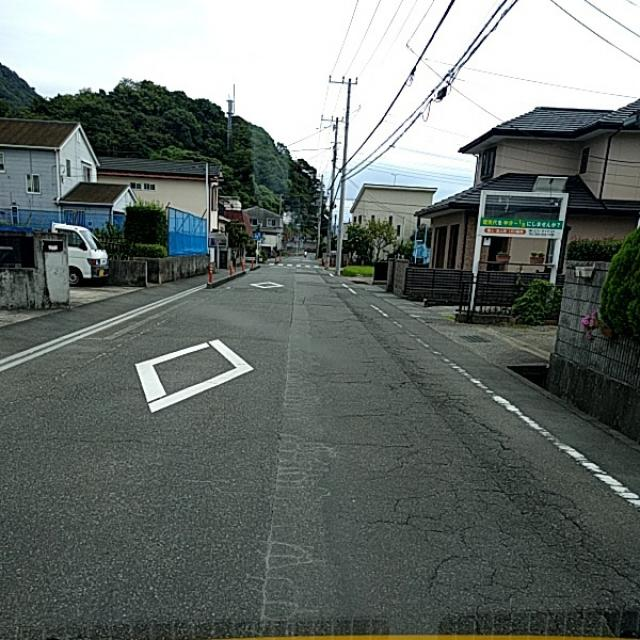pothole: (354, 346, 639, 596)
